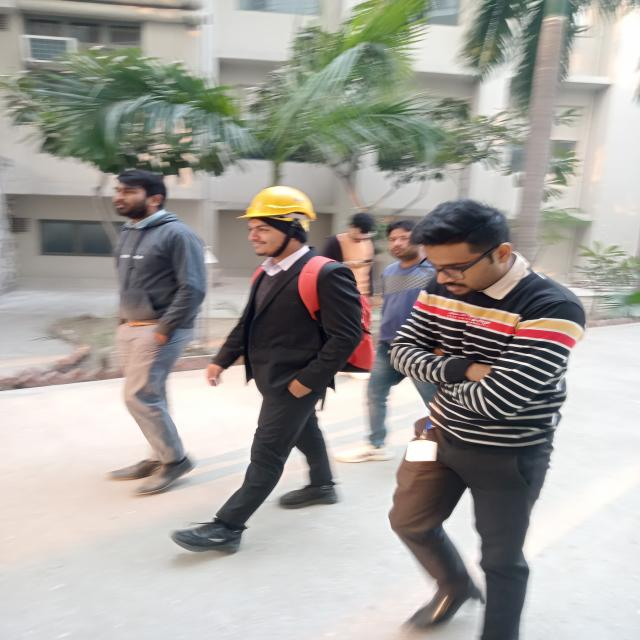no jacket: (188, 185, 357, 559)
unsafe: (382, 197, 587, 640), (101, 170, 210, 496), (366, 220, 431, 463), (323, 206, 388, 382)
